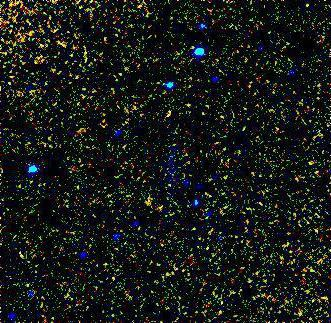star: (134, 184, 164, 214)
